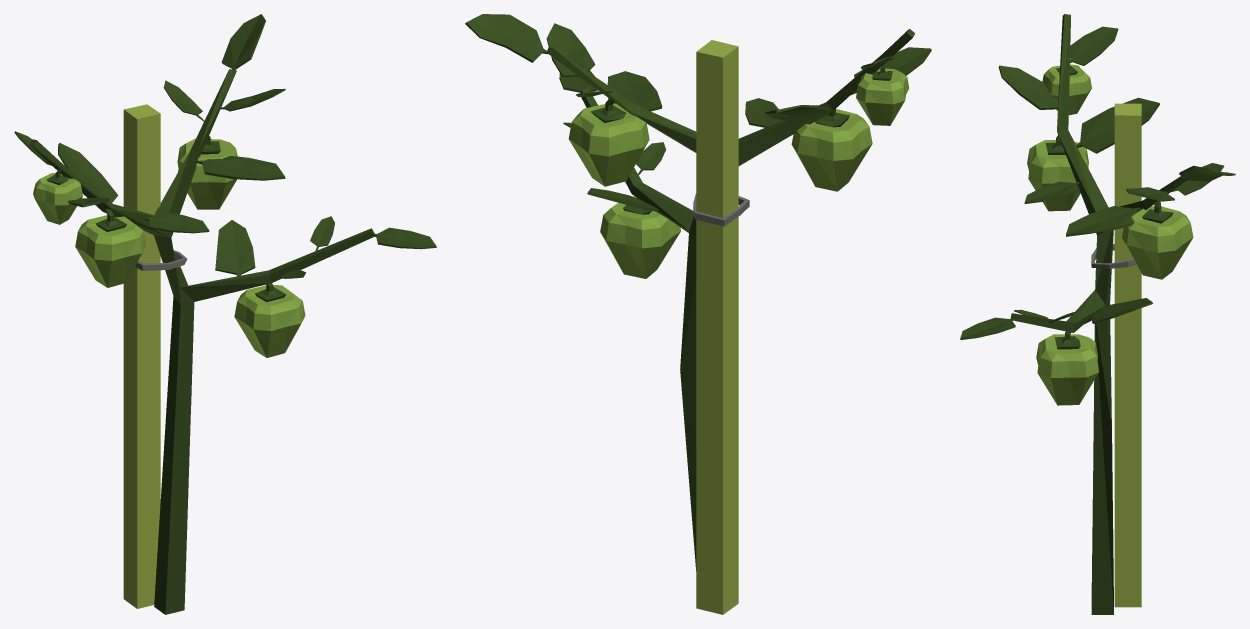
Rendered from PepperPlant_01.fbx.
The picture shows the model from 3 angles, left to right: view 1: azimuth 30°, elevation 25°; view 2: azimuth 150°, elevation 25°; view 3: azimuth 270°, elevation 25°; orthographic projection. The views are drawn at different scales.
Visible parts, largest first — view 1: PepperPlant_01; view 2: PepperPlant_01; view 3: PepperPlant_01.
Part boxes in pixels (x1,y1,x2,y2): PepperPlant_01: [14, 14, 436, 614]; PepperPlant_01: [465, 14, 931, 614]; PepperPlant_01: [960, 14, 1235, 614].
Size of the model in its own units: 0.5912 by 0.8256 by 0.3948.
